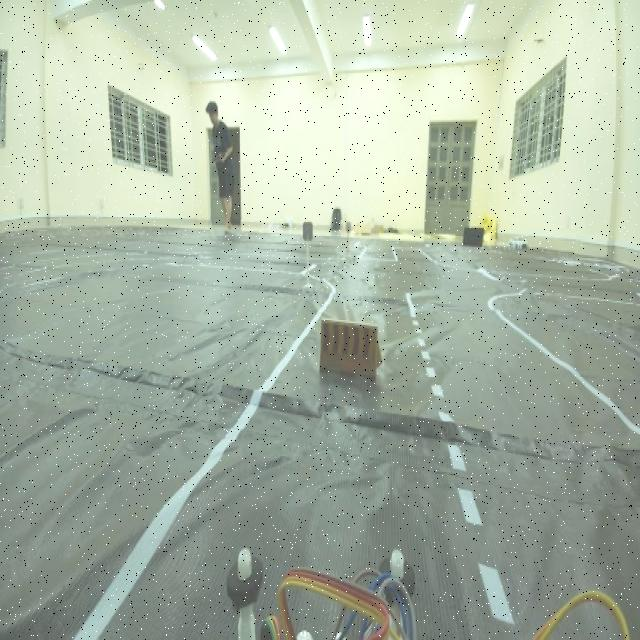roadblock: (311, 307, 387, 388)
